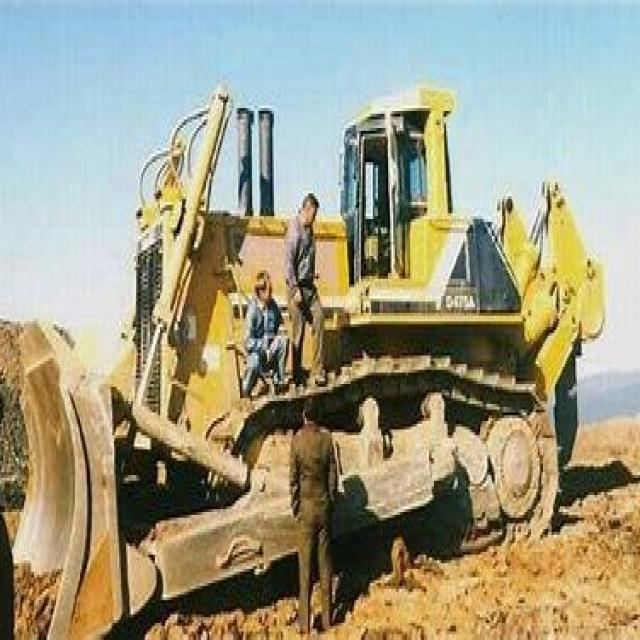Bulldozer: (0, 71, 616, 634)
